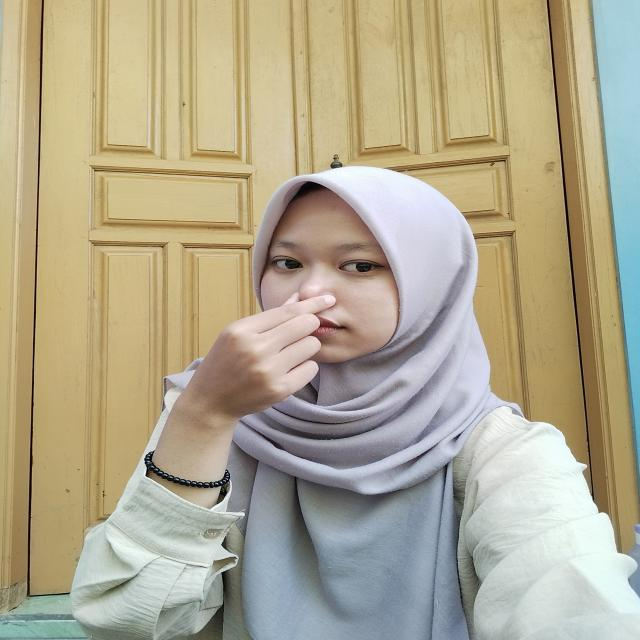bau: (168, 260, 349, 439)
